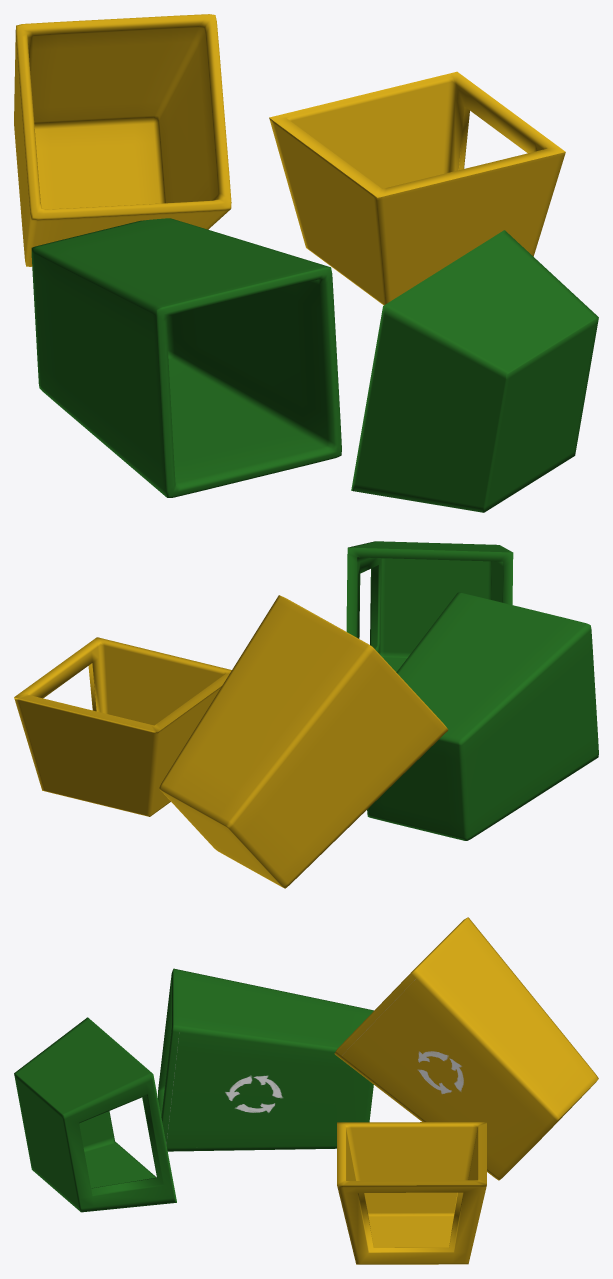
File: transbin.fbx
3 renders of one model, top to bottom at view 1: azimuth 30°, elevation 25°; view 2: azimuth 150°, elevation 25°; view 3: azimuth 270°, elevation 25°, orthographic. The views are drawn at different scales.
Parts seen in each view (by area): view 1: Cube, Cube.001, Cube.002, Cube.003; view 2: Cube.002, Cube, Cube.003, Cube.001; view 3: Cube.002, Cube, Cube.001, Cube.003.
Part boxes in pixels (box(x1,y1,x2,y2)): Cube: box(31, 218, 341, 497); Cube.001: box(351, 230, 598, 512); Cube.002: box(14, 14, 231, 266); Cube.003: box(269, 71, 565, 305); Cube.002: box(159, 595, 448, 888); Cube: box(367, 592, 598, 840); Cube.003: box(14, 637, 231, 816); Cube.001: box(346, 541, 513, 672); Cube.002: box(334, 917, 598, 1180); Cube: box(158, 968, 373, 1151); Cube.001: box(14, 1017, 176, 1212); Cube.003: box(337, 1122, 486, 1264).
Size of the model in its own units: 561 by 303 by 781.
